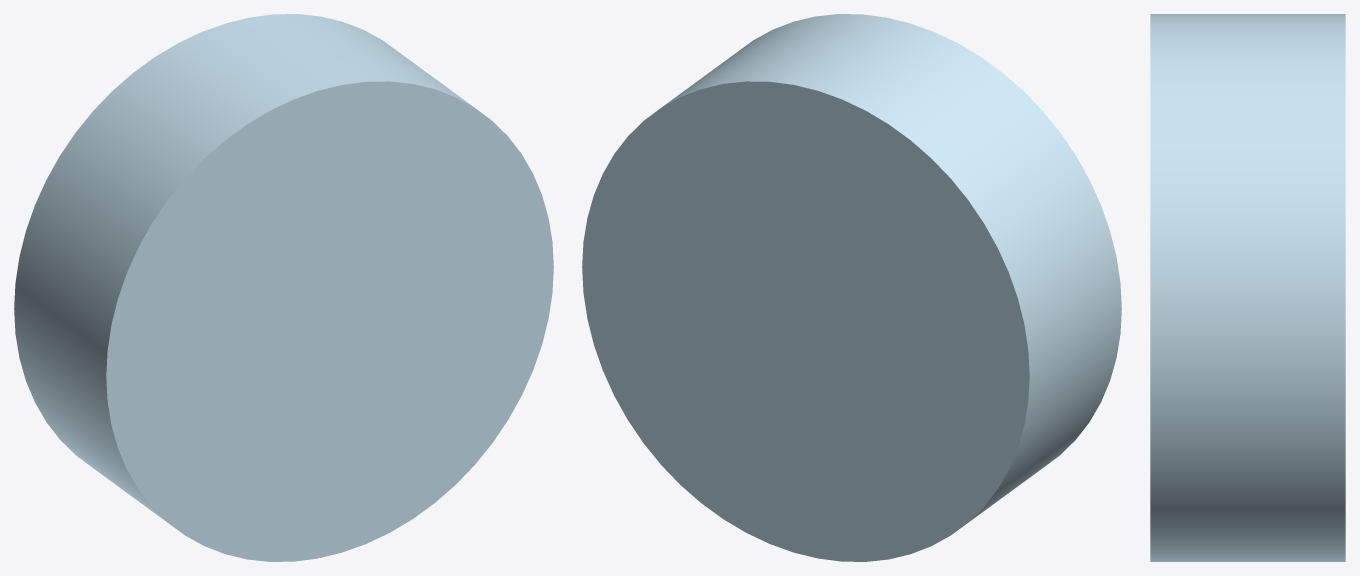
File: Part Studio 1 - Part 1.glb
The picture shows the model from 3 angles, left to right: view 1: azimuth 30°, elevation 25°; view 2: azimuth 150°, elevation 25°; view 3: azimuth 270°, elevation 25°; orthographic projection. The views are drawn at different scales.
Visible parts, largest first — view 1: Part 1; view 2: Part 1; view 3: Part 1.
Part boxes in pixels (box(x1,y1,x2,y2)): Part 1: box(14, 14, 553, 561); Part 1: box(582, 14, 1121, 561); Part 1: box(1150, 14, 1345, 561).
Bounding box in the file's own units: 0.0712 × 0.0711 × 0.0254.
